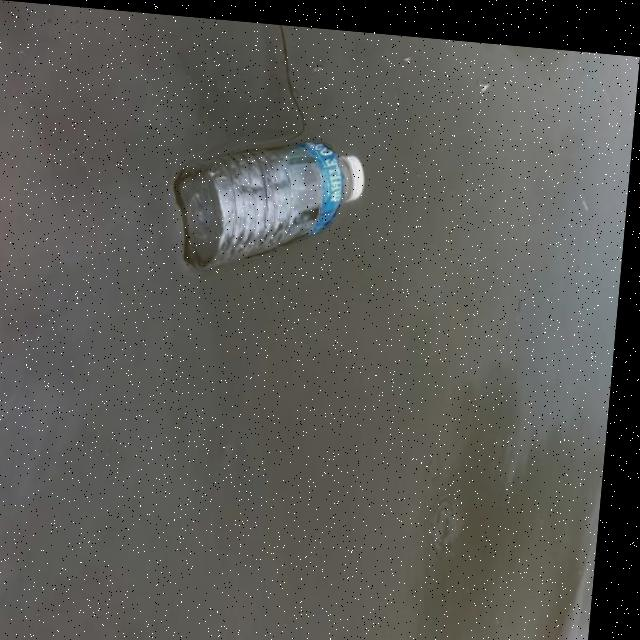waterbottle: (175, 110, 376, 275)
